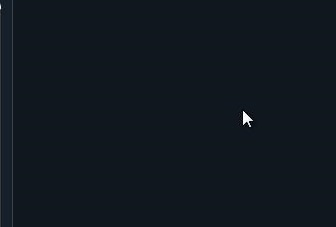cursor: (242, 109, 254, 128)
